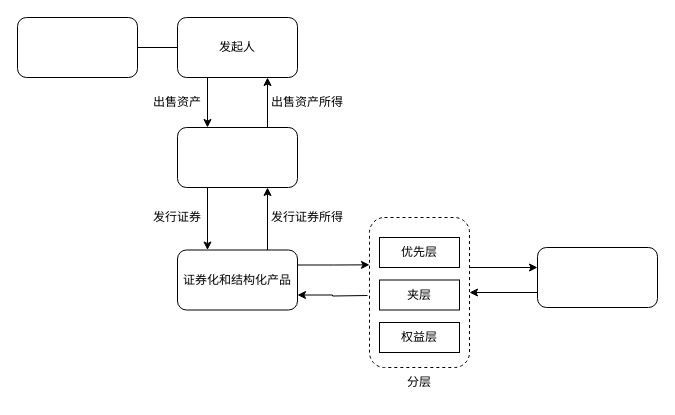
This 675x415 diagram has some shape labels left out. The box of each missing label's shape, as (x1, y1, x2, y2) in pixels:
投资者: (536, 246, 658, 308)
特殊目的实体 (SPV): (176, 126, 298, 188)
资产池: (16, 16, 138, 78)
